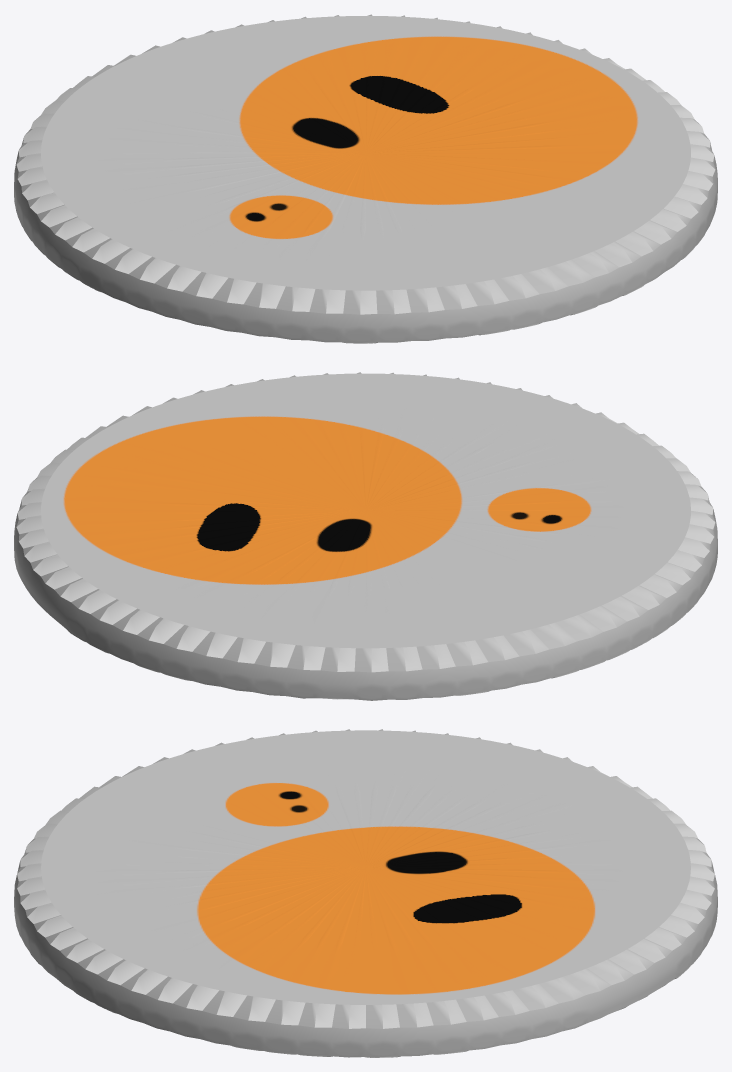
Rendered from tinybig.obj.
3 renders of one model, top to bottom at view 1: azimuth 30°, elevation 25°; view 2: azimuth 150°, elevation 25°; view 3: azimuth 270°, elevation 25°, orthographic.
Parts seen in each view (by area): view 1: Cylinder; view 2: Cylinder; view 3: Cylinder.
Boxes of the visible parts, x1,y1,x2,y2 form: Cylinder: (14,14,717,343); Cylinder: (14,372,717,700); Cylinder: (14,729,717,1057).
Size of the model in its own units: 2 by 0.1305 by 2.
Materials: 1 (1 with a texture image).
